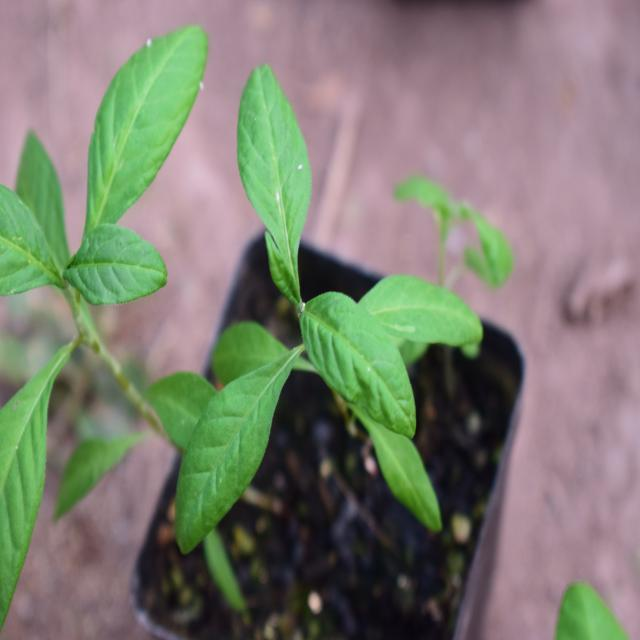white_smart_weed: (172, 82, 472, 542)
